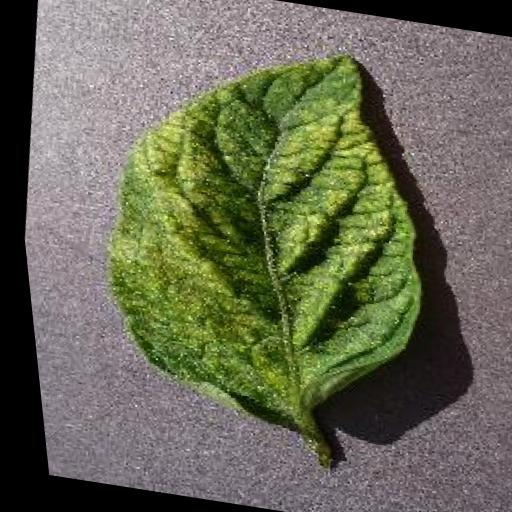Spider Mites: (63, 18, 463, 438)
